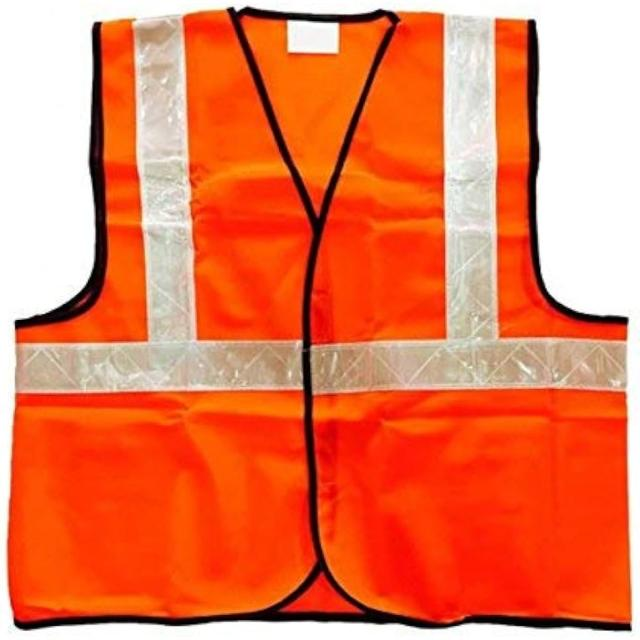safety_jacket: (30, 6, 630, 619)
